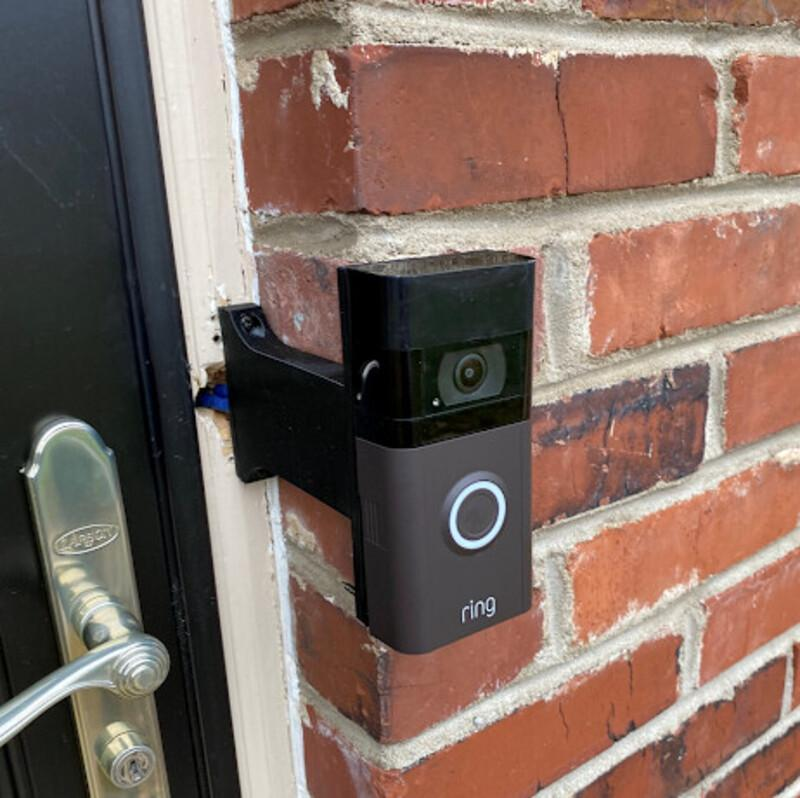doorbell: (328, 238, 546, 658)
